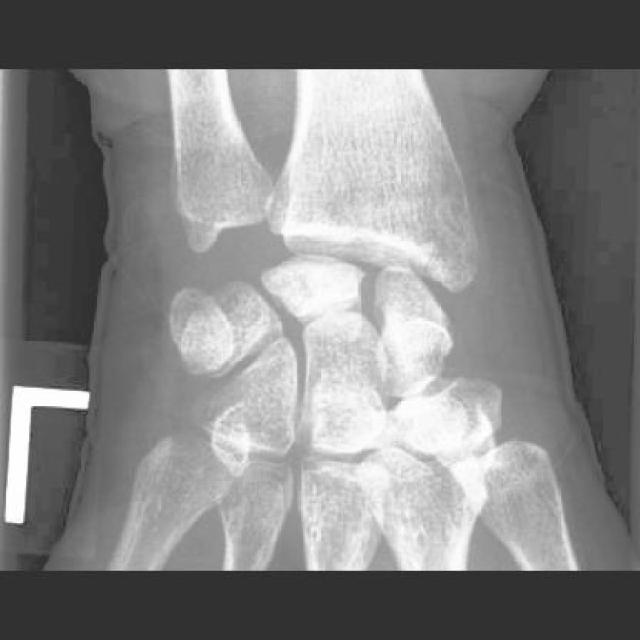Fracture: (263, 266, 356, 323)
